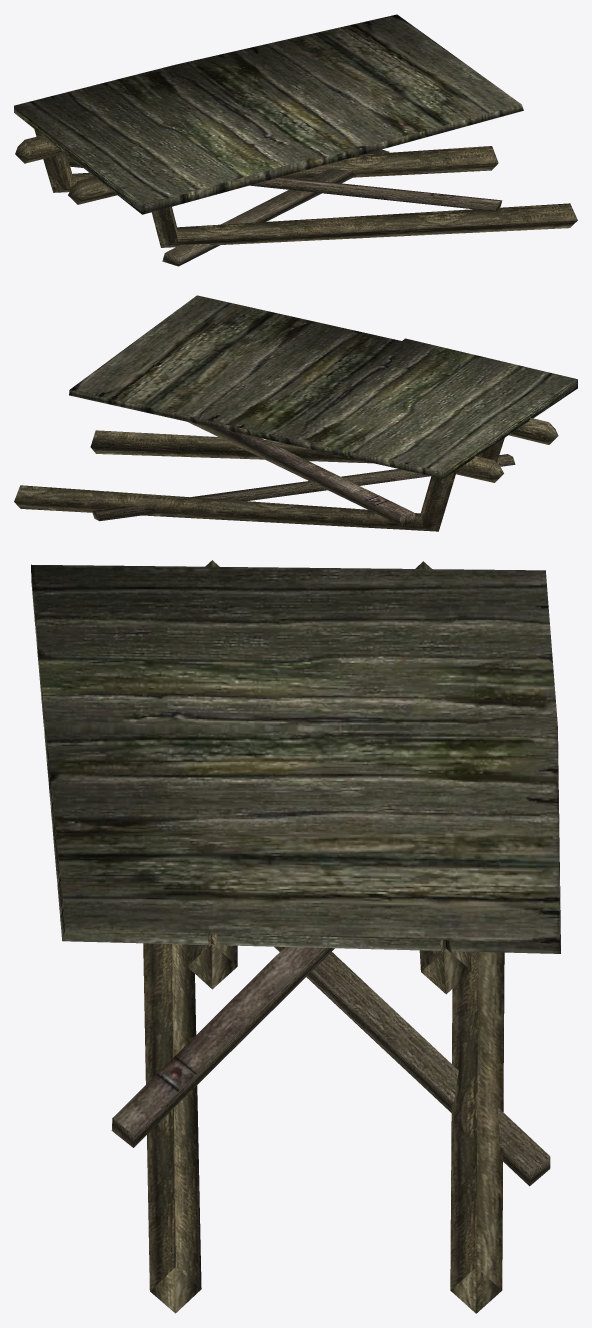
Rendered from MIN_LOB_BRIDGE_4X4M.glb.
3 renders of one model, top to bottom at view 1: azimuth 30°, elevation 25°; view 2: azimuth 150°, elevation 25°; view 3: azimuth 270°, elevation 25°, orthographic. The views are drawn at different scales.
Parts seen in each view (by area): view 1: Mesh; view 2: Mesh; view 3: Mesh.
Part boxes in pixels (<box>): Mesh: <box>14,14,577,266</box>; Mesh: <box>14,295,577,531</box>; Mesh: <box>31,560,560,1313</box>.
Size of the model in its own units: 9.67 by 3.11 by 4.69.
2 materials, 2 textured.
